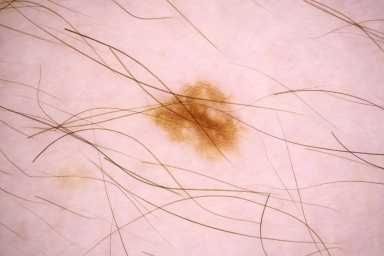melanoma: (156, 81, 241, 155)
